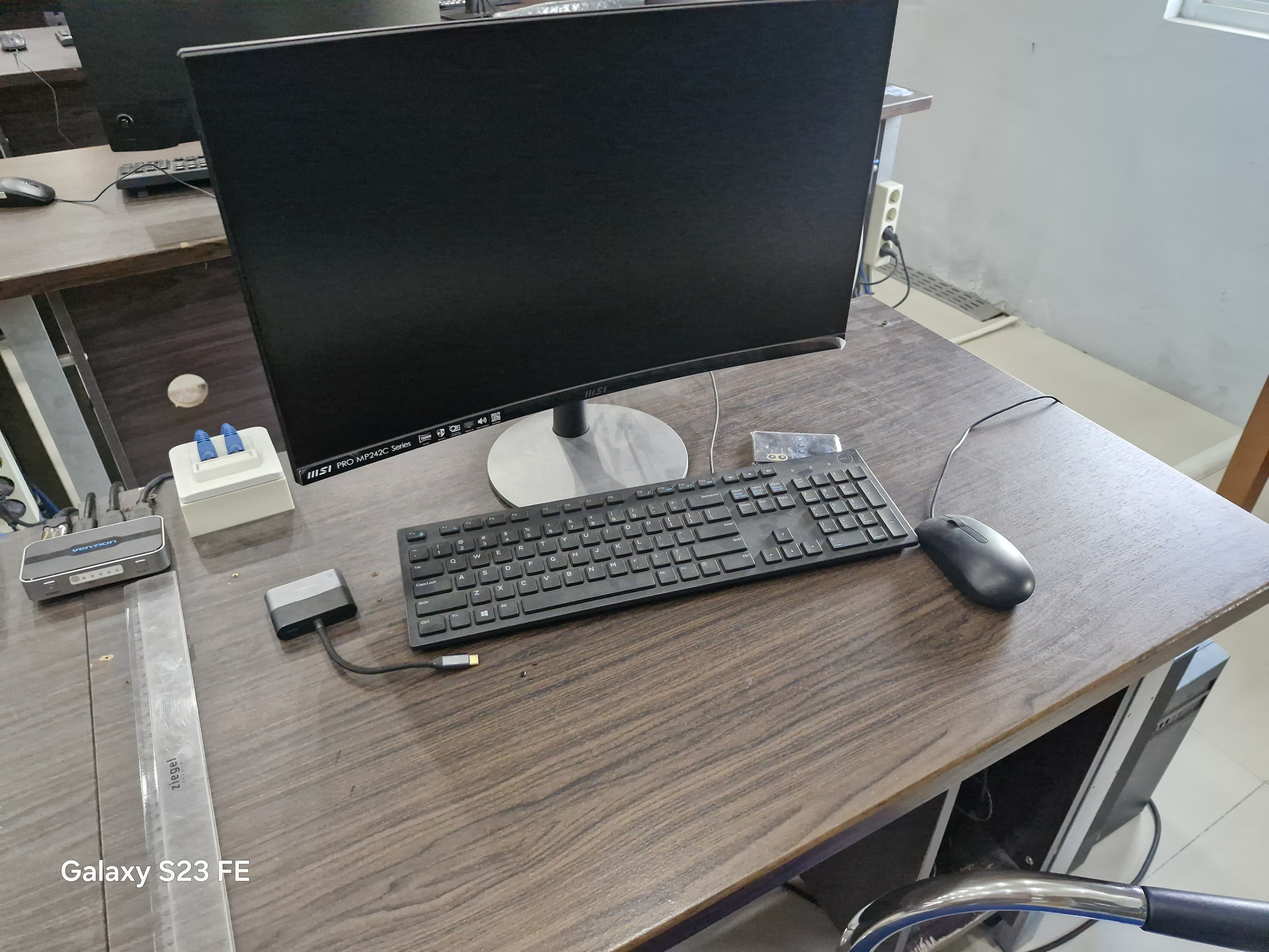chair: (839, 870, 1268, 951)
keyboard: (399, 451, 916, 650), (117, 155, 210, 194)
mouse: (915, 515, 1035, 609), (0, 177, 55, 207)
plug: (865, 180, 903, 269)
table-merged: (0, 292, 1268, 951), (0, 152, 228, 305), (876, 922, 924, 951)
tv: (181, 0, 896, 504)
wall-other-merged: (892, 0, 1268, 381)
